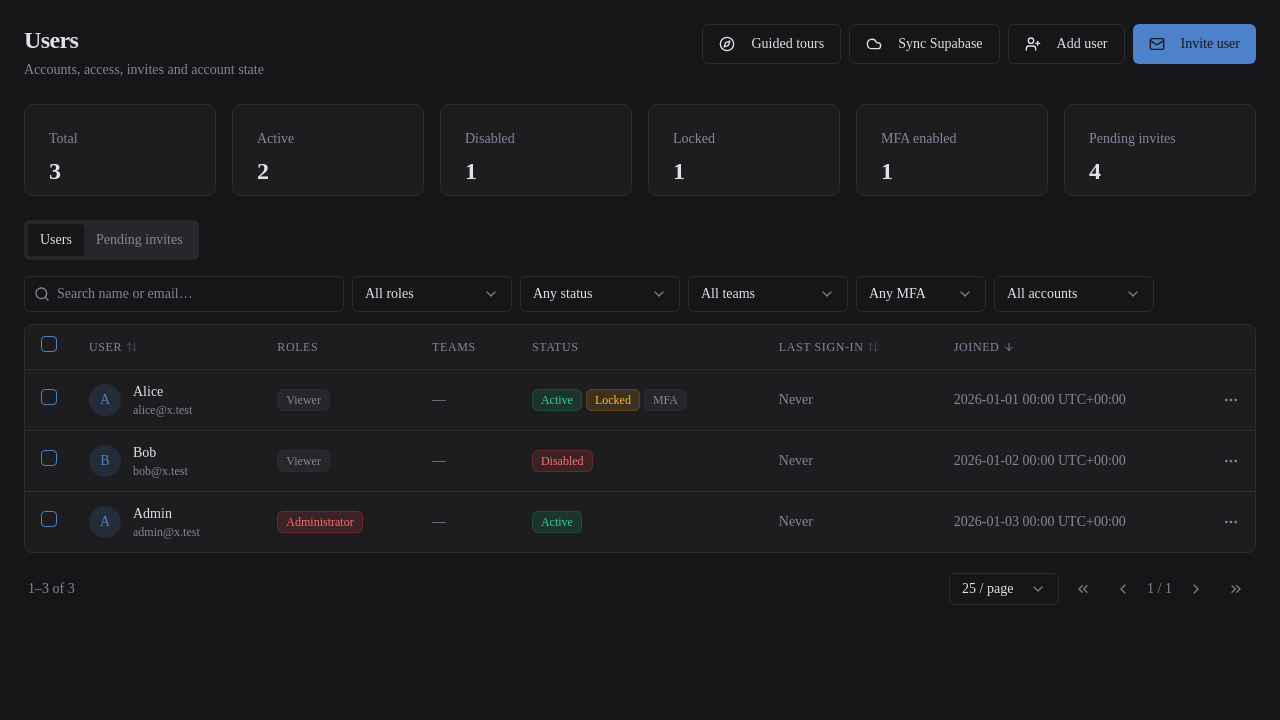
Scenario: Users admin page: actions › runs a bulk force logout and lists skipped users with their codes
Expected: the text "alice@x.test" is shown, left=133, top=402, right=192, bottom=418
Click the checkbox named "Select row" in the row of "alice@x.test". click: (49, 397)
box: left=41, top=389, right=57, bottom=405
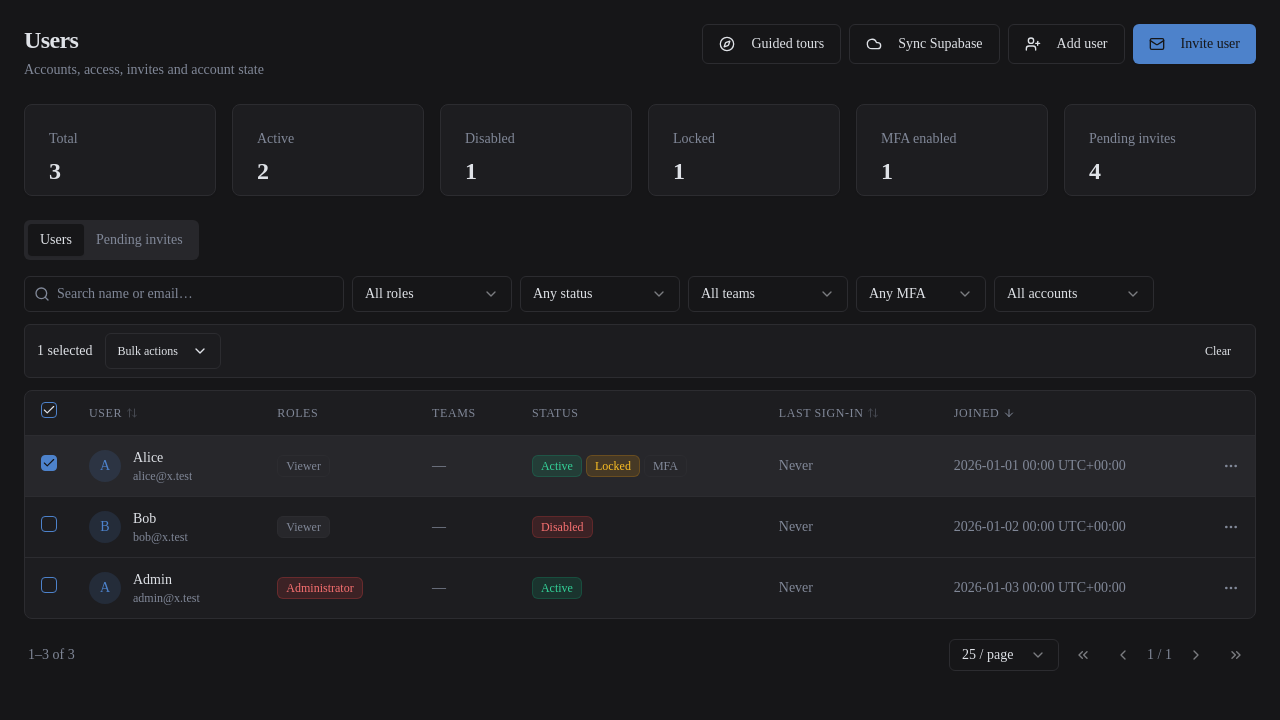
Click the checkbox named "Select row" in the row of "admin@x.test". click: (49, 585)
box: left=41, top=577, right=57, bottom=593
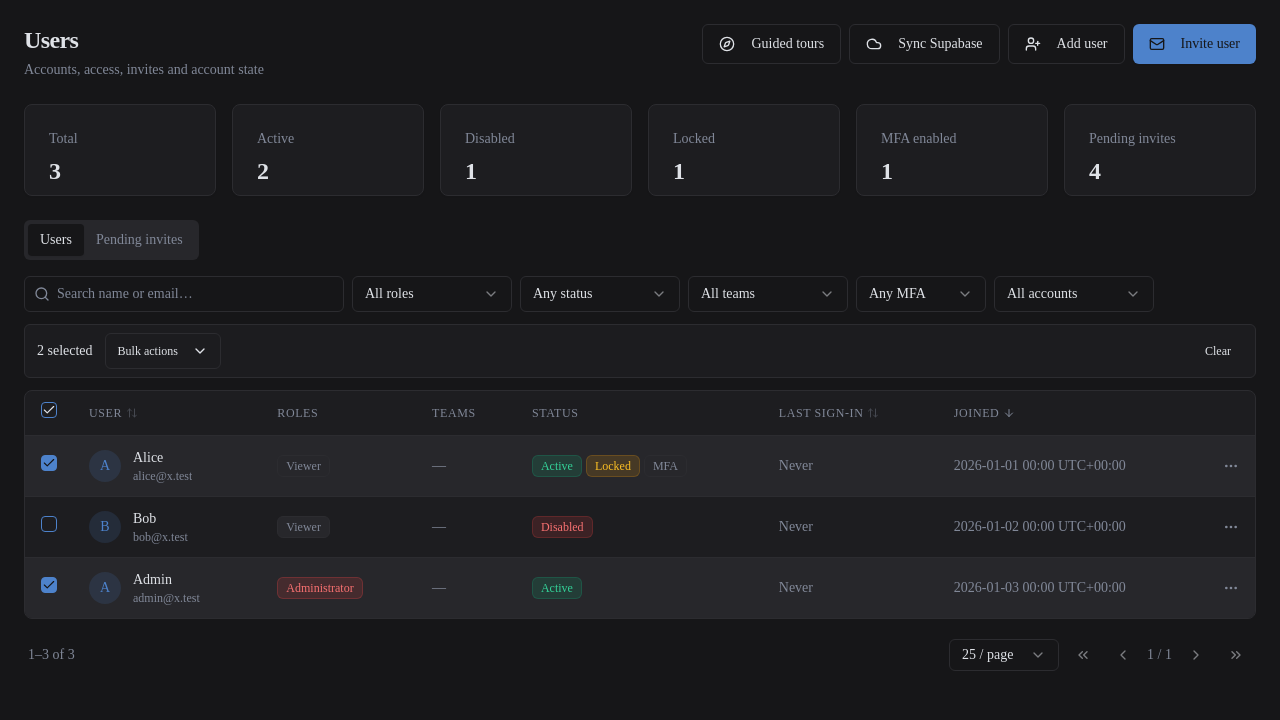
Now the text "2 selected" is shown, box left=37, top=341, right=93, bottom=361
Press ArrowDown in the button "Bulk actions", box left=105, top=333, right=221, bottom=369
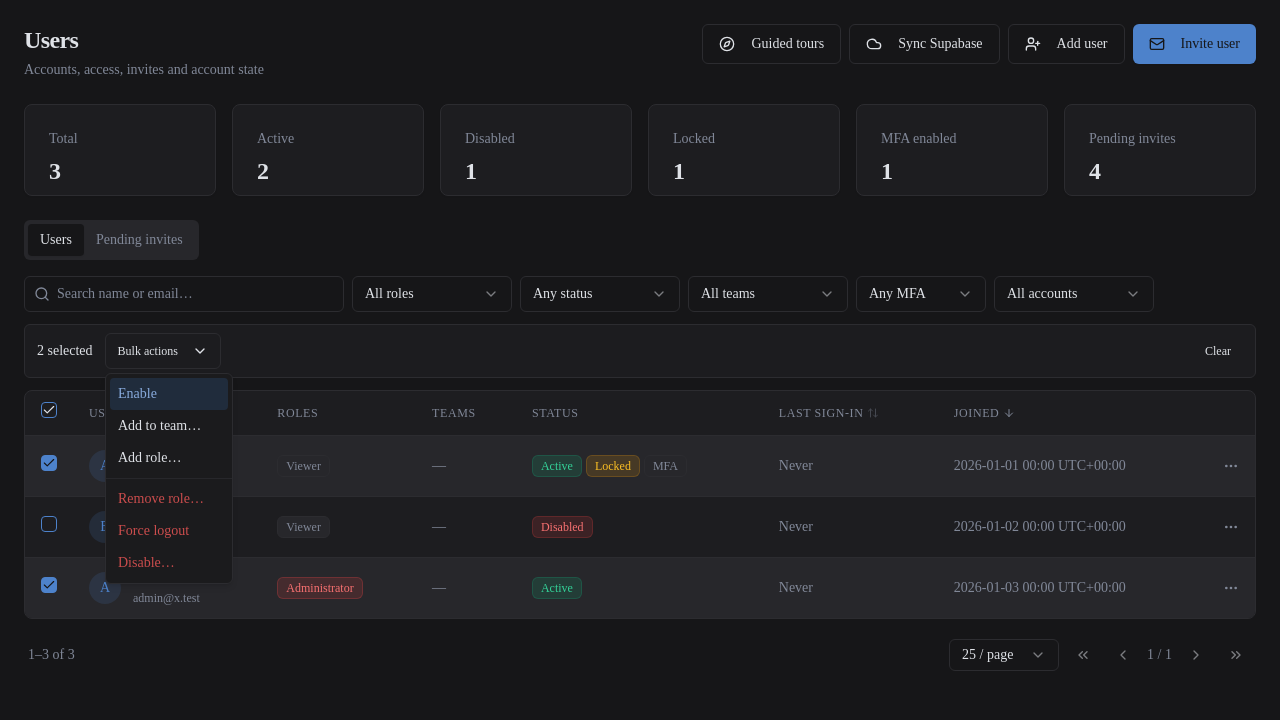
Click the menu item "Force logout". click: (154, 530)
box: left=118, top=523, right=189, bottom=538
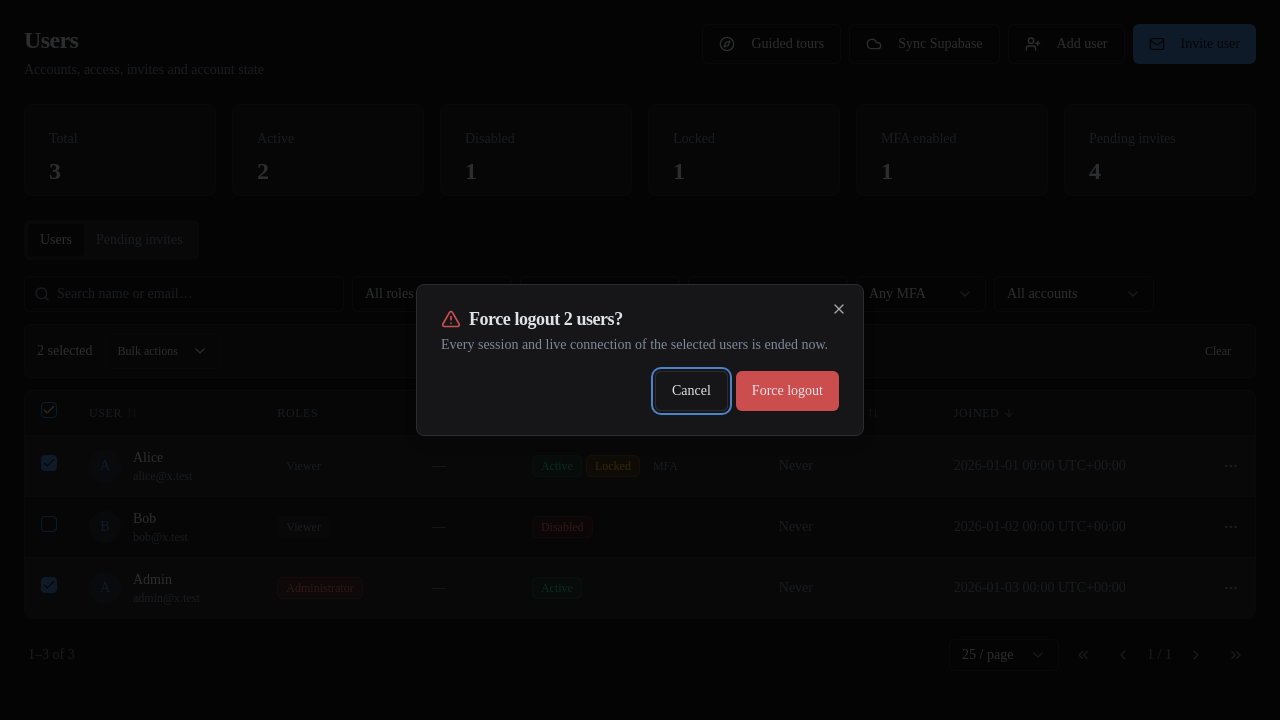
Click the button "Force logout". click: (787, 391)
box: left=736, top=371, right=839, bottom=411
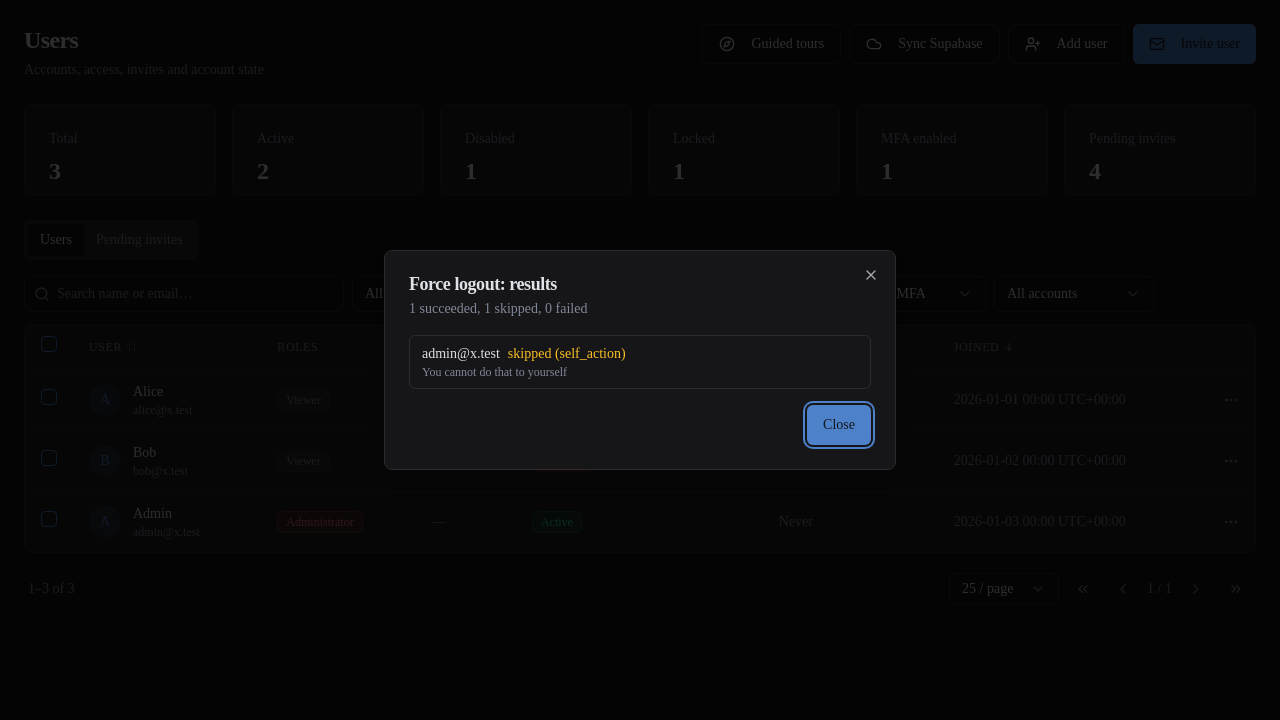
Now the text with test id "bulk-summary" reads "1 succeeded, 1 skipped, 0 failed", box left=409, top=301, right=588, bottom=316
Now the text "admin@x.test" is shown, box left=422, top=346, right=500, bottom=361
Now the text "skipped (self_action)" is shown, box left=508, top=346, right=626, bottom=361
